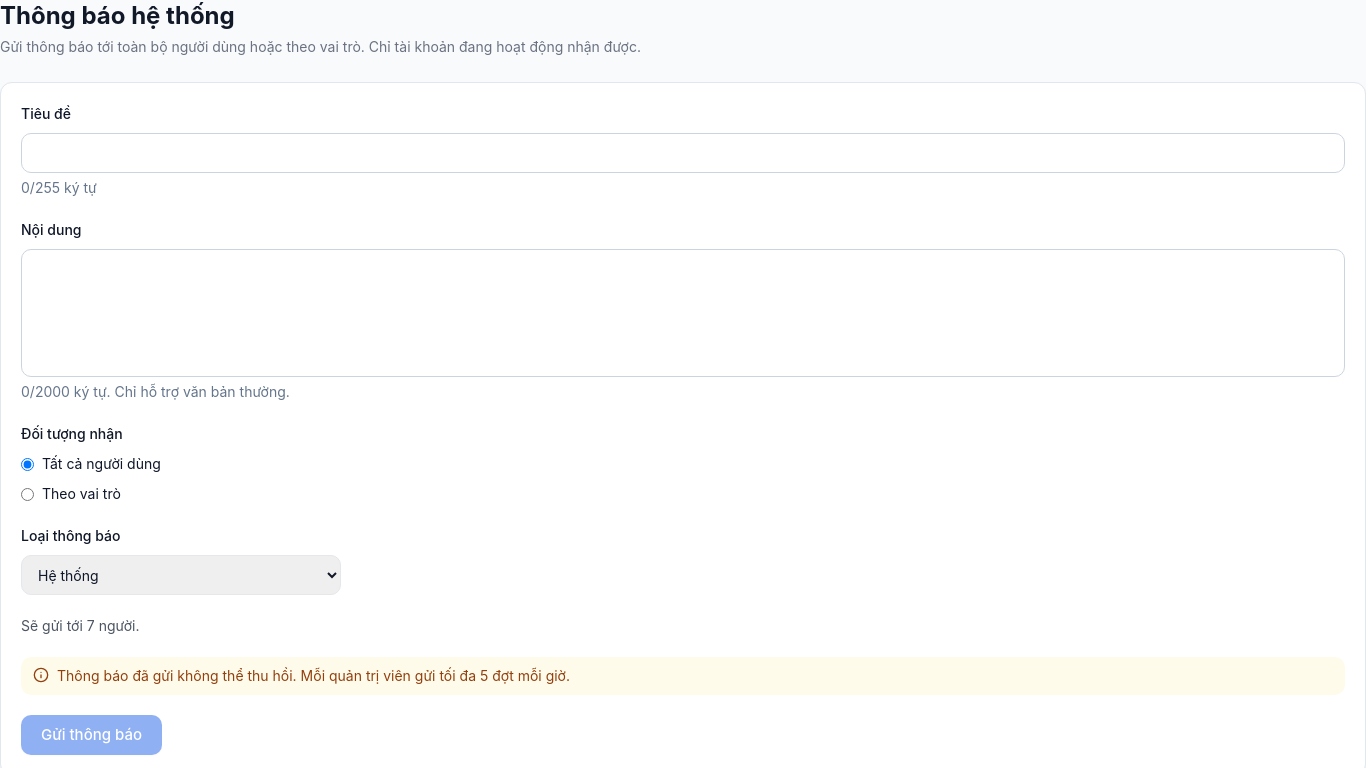
Test case: AdminBroadcastNotificationsPage › audience=roles: chưa chọn vai trò thì không đếm và không gửi được; chọn rồi đếm theo vai trò đó
Type "  Bảo trì hệ thống  " into the field labelled "Tiêu đề" at (683,153), box [21,133,1345,173]
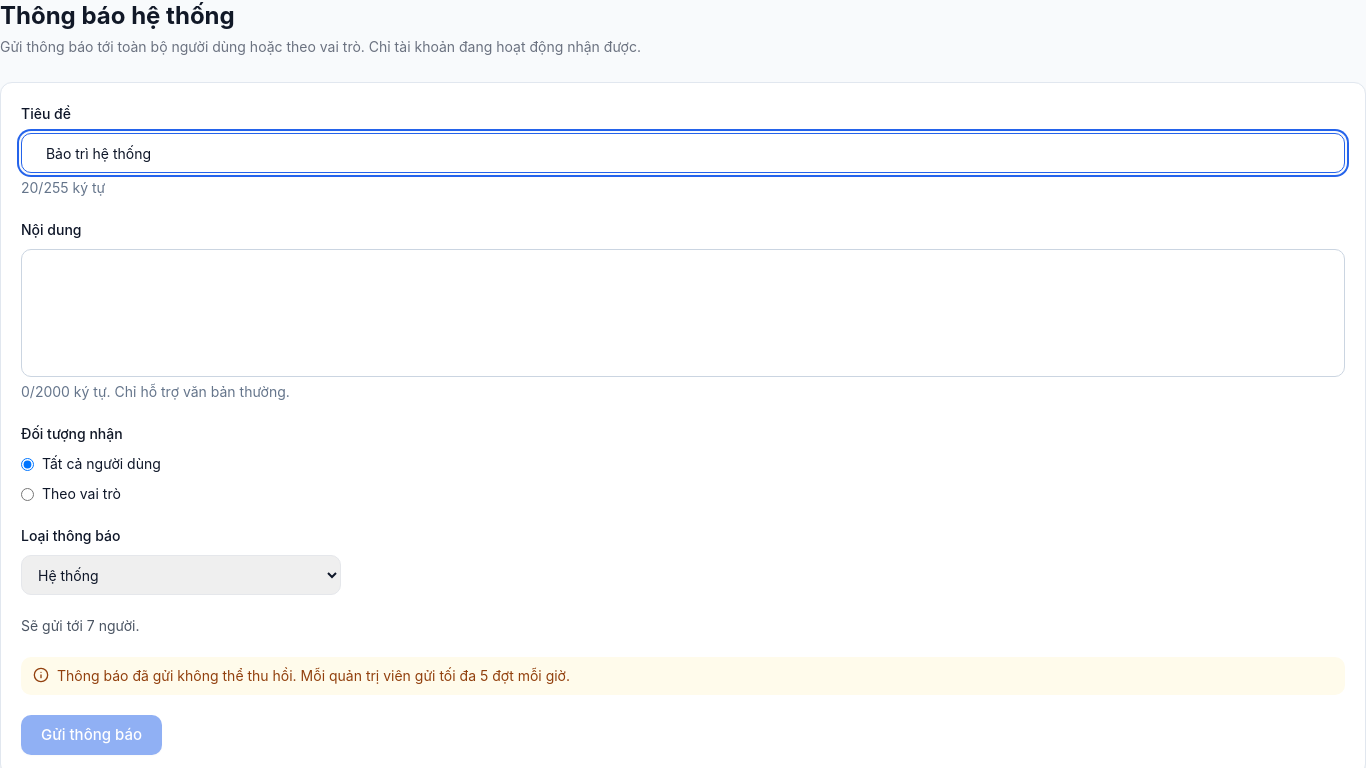
Type "Hệ thống bảo trì lúc 22h" into the text box labelled "Nội dung" at (683,313), box [21,249,1345,377]
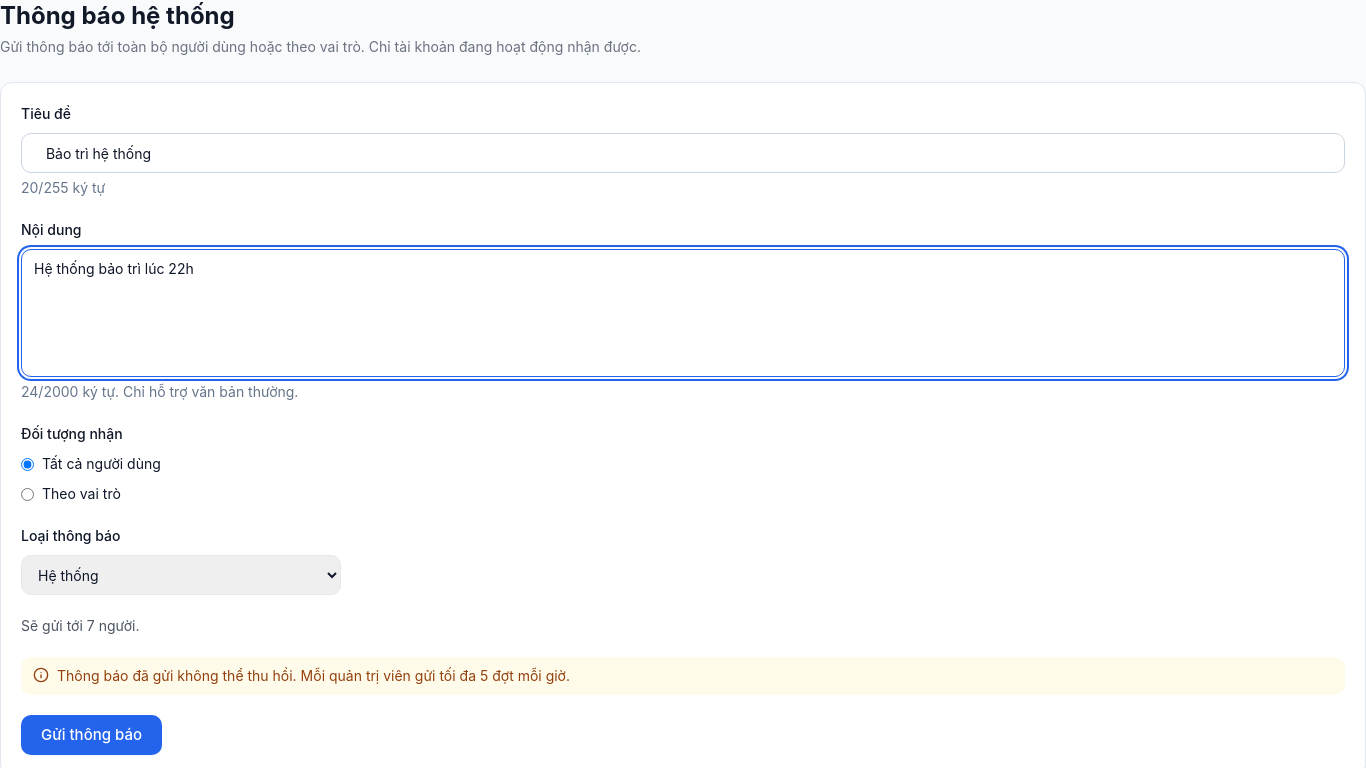
Click the radio button labelled "Theo vai trò" at (28,494), box [21,488,34,500]
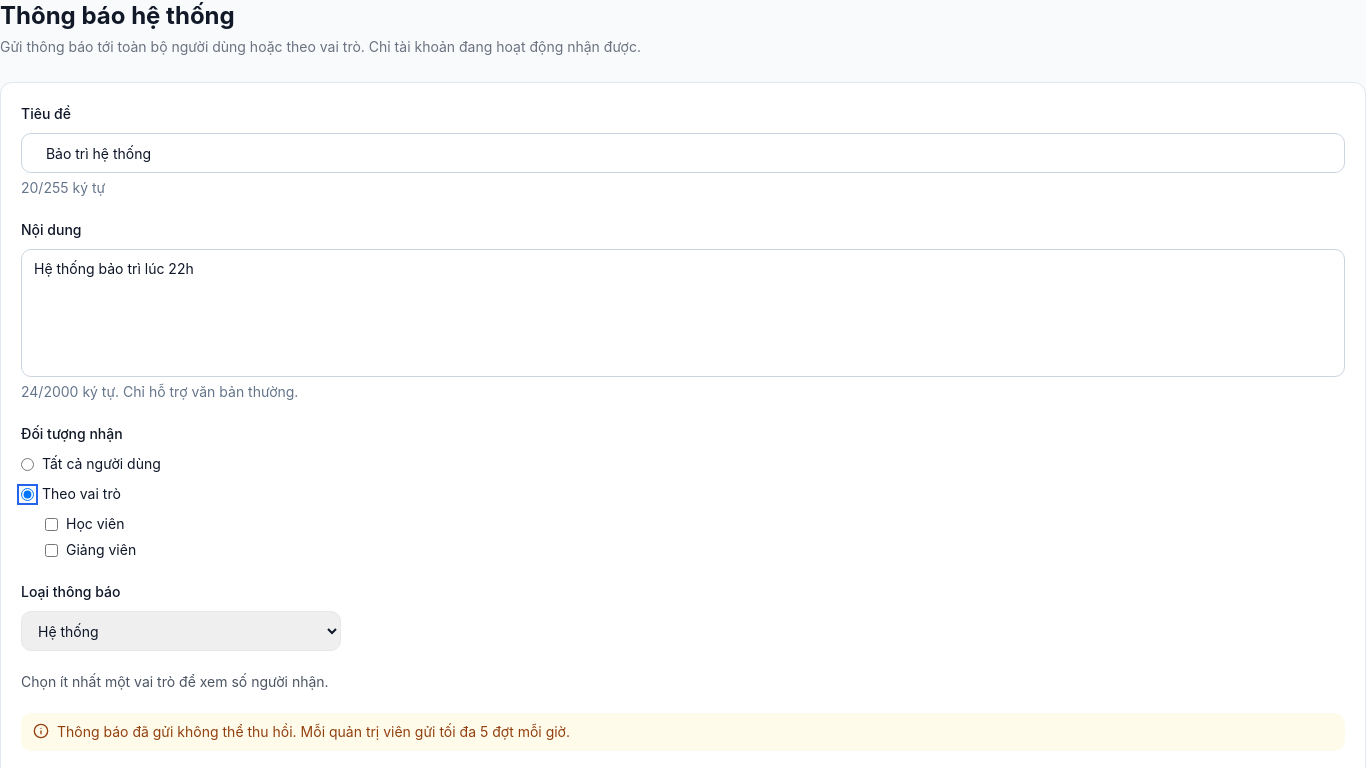
Check: the text "Chọn ít nhất một vai trò để xem số người nhận." is shown, box [21,673,329,690]
Click the checkbox labelled "Học viên" at (52,524), box [45,518,58,530]
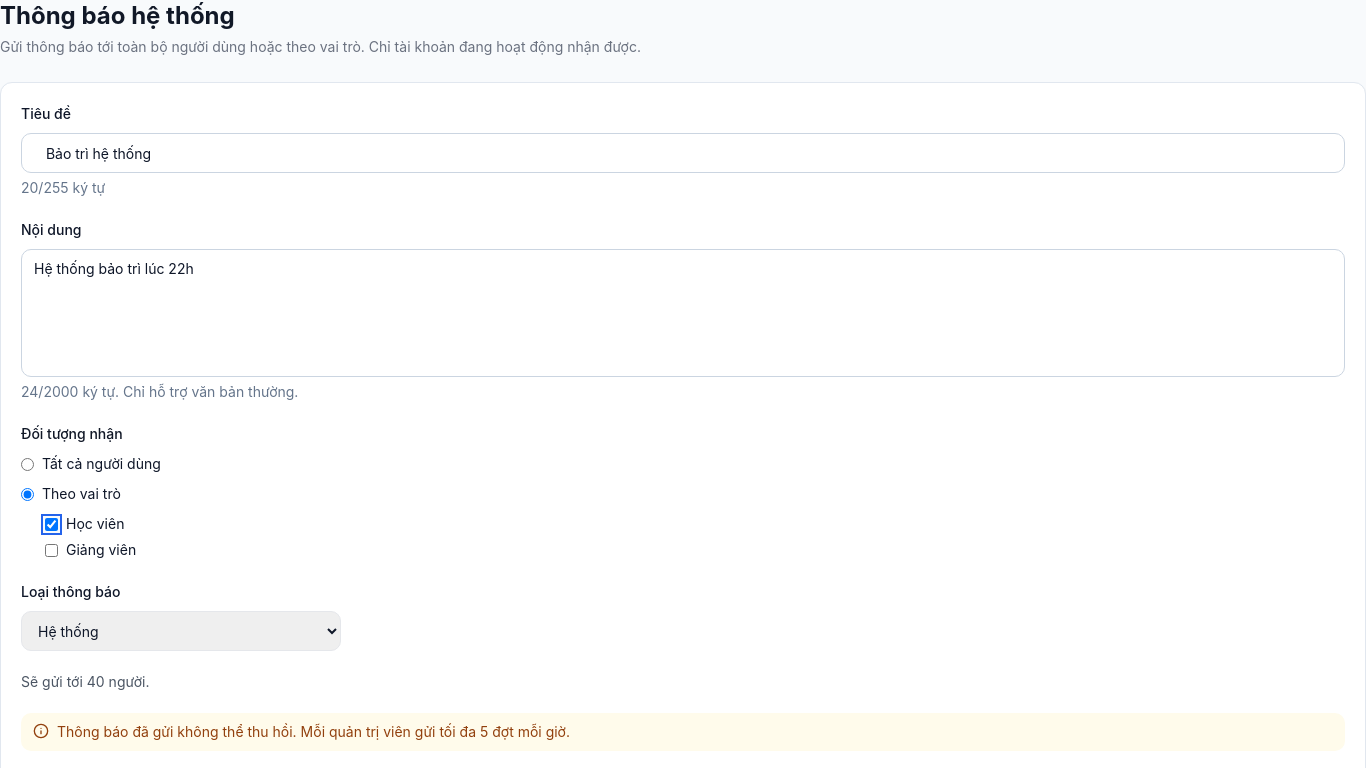
Check: the text "Sẽ gửi tới 40 người." is shown, box [21,673,150,690]
Click the checkbox labelled "Học viên" at (52,524), box [45,518,58,530]
(page scrolled)
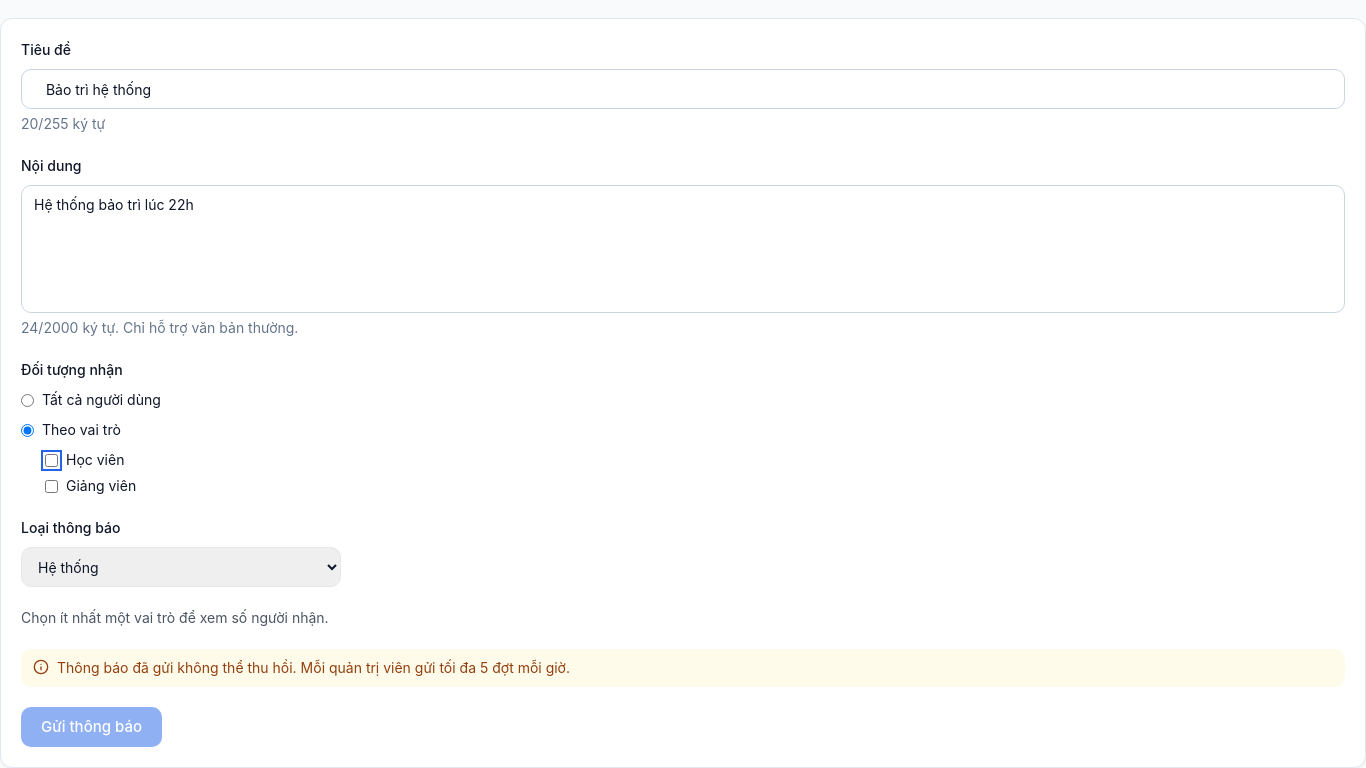
Check: the text "Chọn ít nhất một vai trò để xem số người nhận." is shown, box [21,609,329,626]
Check: the button "Gửi thông báo" is disabled, box [21,707,162,747]
